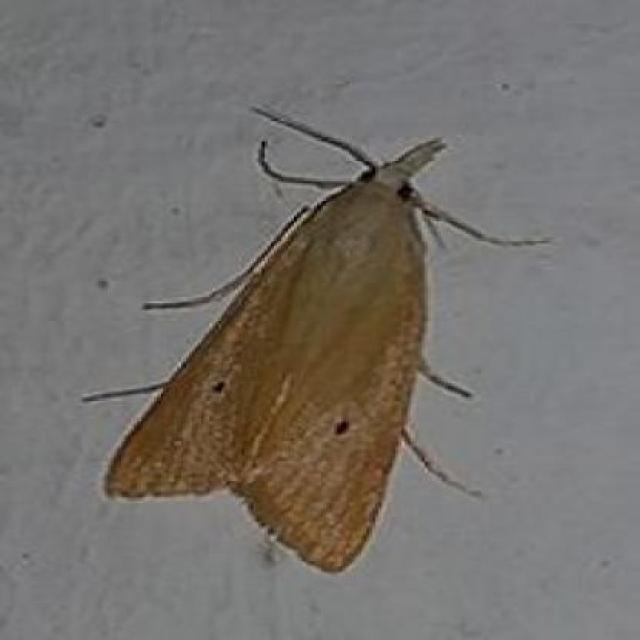stem-borer: (97, 100, 535, 572)
